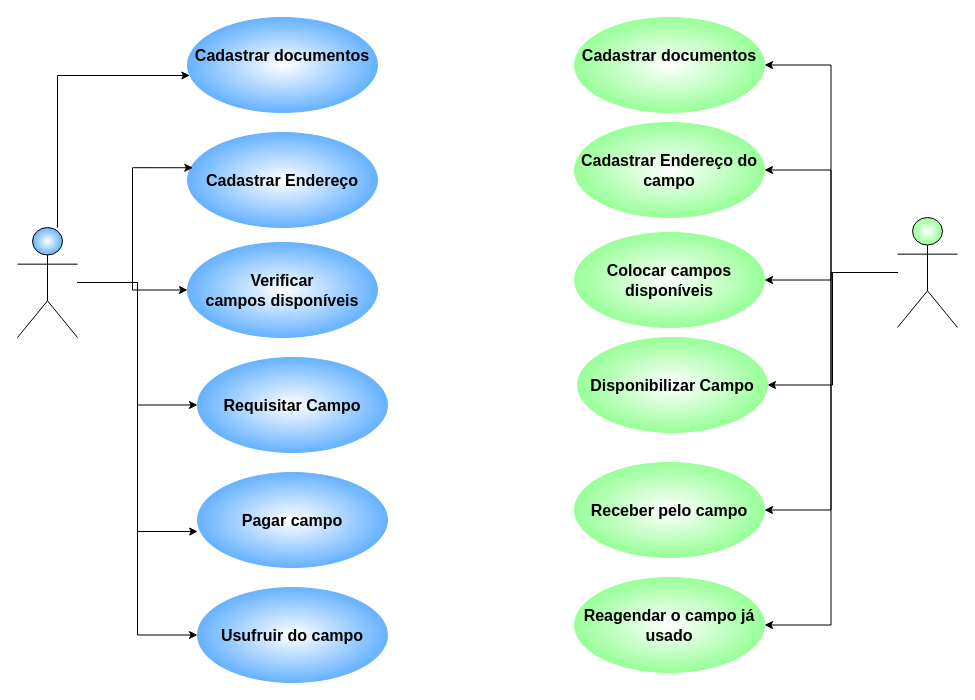
Some shapes in this 975 by 700 pixel diagram are drawn without their labels. Each missing label, with the centre of its shape:
"Campo" goes at point 927,272.
"Usuário" goes at point 47,282.
